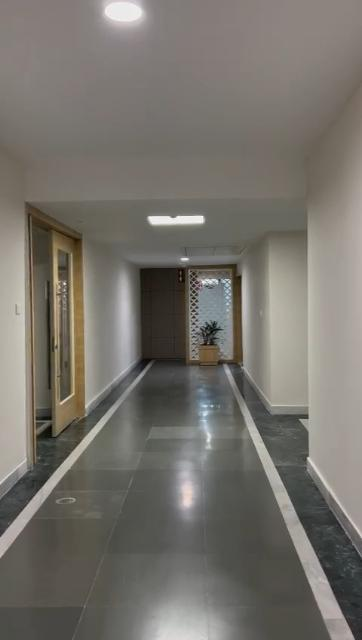door: (23, 213, 82, 425)
floor: (0, 357, 361, 640)
object: (192, 322, 226, 364)
wall: (300, 126, 362, 458), (243, 240, 309, 406), (0, 160, 34, 468), (83, 254, 137, 358)
